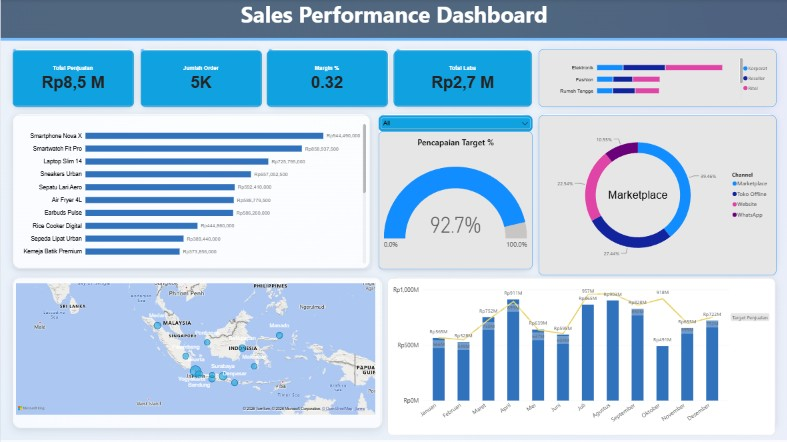

The dashboard page shown, as its layout file describes it:
{"tool":"powerbi","page":{"name":"Page 1","canvas":[1920,1080],"ordinal":0},"visuals":[{"type":"cardVisual","fields":{"Data":["_Ukuran.Total Penjualan Label"]},"box":[28.6,123.6,295.7,137.9],"z":0},{"type":"lineClusteredColumnComboChart","title":"Total Penjualan and Target Penjualan","fields":{"Category":["Dim_Kalender.Nama_Bulan"],"Y":["_Ukuran.Total Penjualan"],"Y2":["_Ukuran.Target Penjualan"]},"box":[945,680,945,382.5],"z":1000},{"type":"map","fields":{"Category":["Dim_Wilayah.Kota"],"Size":["_Ukuran.Total Penjualan"]},"box":[25,680,902.5,382.5],"z":2000},{"type":"clusteredBarChart","title":"Total Penjualan","fields":{"Category":["Dim_Produk.Nama_Produk"],"Y":["_Ukuran.Total Penjualan"]},"box":[28.2,282.7,875.5,375.5],"z":3000},{"type":"donutChart","fields":{"Category":["Fakta_Penjualan.Channel"],"Y":["_Ukuran.Total Penjualan"]},"box":[1312.5,282.5,580,390],"z":4000},{"type":"barChart","fields":{"Category":["Dim_Produk.Kategori"],"Series":["Dim_Pelanggan.Segmen"],"Y":["Sum(Fakta_Penjualan.Total_Penjualan)"]},"box":[1312.5,122.5,580,140],"z":5000},{"type":"cardVisual","fields":{"Data":["_Ukuran.Jumlah Order"]},"box":[340.7,123.3,295.7,137.9],"z":6000},{"type":"cardVisual","fields":{"Data":["_Ukuran.Margin %"]},"box":[650,123.3,295.7,137.9],"z":7000},{"type":"cardVisual","fields":{"Data":["_Ukuran.Total Laba Label"]},"box":[960,123.8,337.5,137.5],"z":8000},{"type":"slicer","title":"Tahun & Kuartal","fields":{"Values":["Dim_Kalender.Tahun","Dim_Kalender.Kuartal"]},"box":[923.3,282.2,375.6,40],"z":9000},{"type":"gauge","fields":{"Y":["_Ukuran.Pencapaian Target %"]},"box":[923.3,322.2,375.6,336.7],"z":10000},{"type":"textbox","box":[0,0,1920,96.7],"z":11000}]}

Visuals, with their boxes in screenshot pixels (x1, y1, x2, y2), scaled from the page's 1920x1080 canvas onto the 787x442 screenshot:
cardVisual - _Ukuran.Total Penjualan Label: bbox(12, 51, 133, 107)
"Total Penjualan and Target Penjualan" lineClusteredColumnComboChart: bbox(387, 278, 775, 435)
map - Dim_Wilayah.Kota x _Ukuran.Total Penjualan: bbox(10, 278, 380, 435)
"Total Penjualan" clusteredBarChart: bbox(12, 116, 370, 269)
donutChart - Fakta_Penjualan.Channel x _Ukuran.Total Penjualan: bbox(538, 116, 776, 275)
barChart - Dim_Produk.Kategori x Dim_Pelanggan.Segmen: bbox(538, 50, 776, 107)
cardVisual - _Ukuran.Jumlah Order: bbox(140, 50, 261, 107)
cardVisual - _Ukuran.Margin %: bbox(266, 50, 388, 107)
cardVisual - _Ukuran.Total Laba Label: bbox(394, 51, 532, 107)
"Tahun & Kuartal" slicer: bbox(378, 115, 532, 132)
gauge - _Ukuran.Pencapaian Target %: bbox(378, 132, 532, 270)
textbox: bbox(0, 0, 786, 40)
